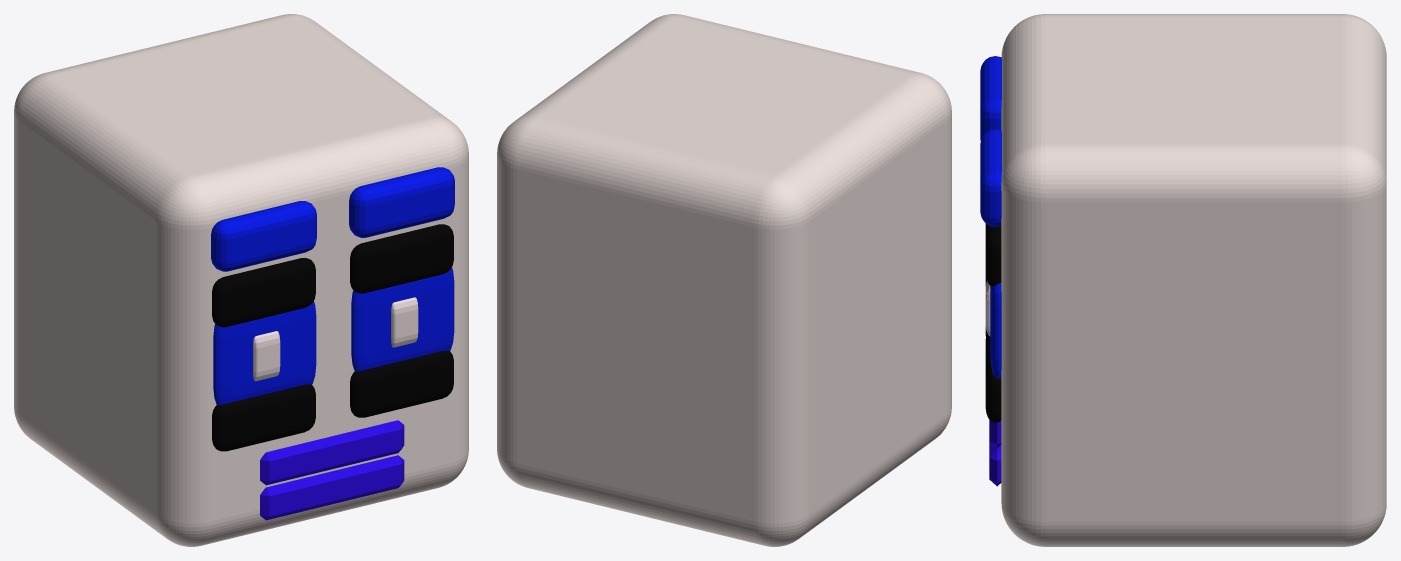
The model's file is RoBot.glb.
The picture shows the model from 3 angles, left to right: view 1: azimuth 30°, elevation 25°; view 2: azimuth 150°, elevation 25°; view 3: azimuth 270°, elevation 25°; orthographic projection. The views are drawn at different scales.
Visible parts, largest first — view 1: RoBot_Head.001; view 2: RoBot_Head.001; view 3: RoBot_Head.001.
Boxes of the visible parts, x1,y1,x2,y2 form: RoBot_Head.001: (14, 14, 468, 546); RoBot_Head.001: (497, 14, 951, 546); RoBot_Head.001: (980, 14, 1386, 546).
Size of the model in its own units: 0.7 by 0.8 by 0.7386.
